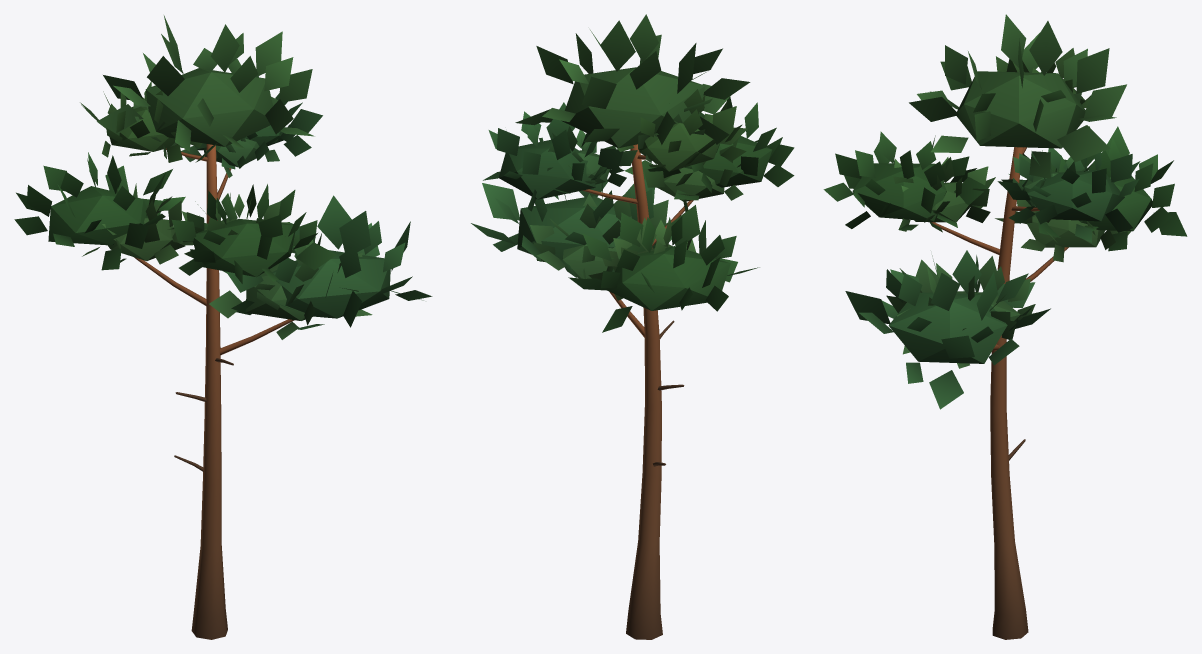
File: pine_a.glb
The picture shows the model from 3 angles, left to right: view 1: azimuth 30°, elevation 25°; view 2: azimuth 150°, elevation 25°; view 3: azimuth 270°, elevation 25°; orthographic projection.
Visible parts, largest first — view 1: pine_a; view 2: pine_a; view 3: pine_a.
Part boxes in pixels (box(x1,y1,x2,y2)): pine_a: box(14, 15, 432, 639); pine_a: box(471, 14, 794, 639); pine_a: box(823, 14, 1187, 639).
Bounding box in the file's own units: 6.25 × 11.09 × 6.05.
